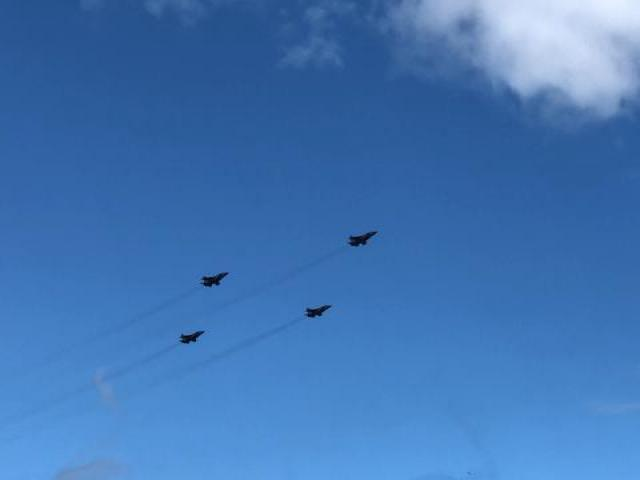flying wing: (345, 222, 379, 260), (196, 264, 228, 298), (174, 326, 207, 356), (304, 302, 332, 324)
